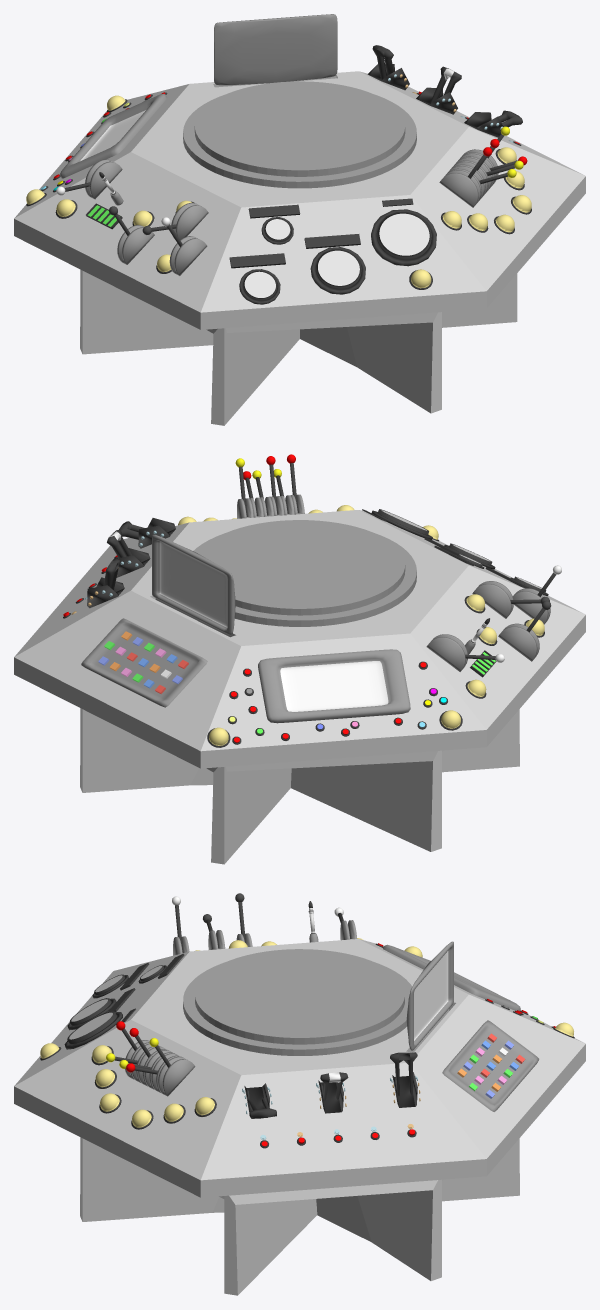
The model's file is Console.fbx.
The picture shows the model from 3 angles, top to bottom: view 1: azimuth 30°, elevation 25°; view 2: azimuth 150°, elevation 25°; view 3: azimuth 270°, elevation 25°; orthographic projection.
Parts seen in each view (by area): view 1: Console Up, Circle.005, Desktop, Radioactivity, Screen, Clock, Temperature, Lever Group Base 6, Lever Group Base 6.004, Lever Group Base 6.001, Lever Group Base 6.003, Lever Group Base 6.002 (+6 smaller); view 2: Console Up, Circle.005, Screen, Desktop, Plane Keyboard, Lever Group Base 6.001, Lever Group Base 6.003, Lever Group Base 6.002, Lever Group Base 6.004, Lever Base.002, Lever Base, Radioactivity (+1 smaller); view 3: Console Up, Circle.005, Plane Keyboard, Desktop, Screen, Radioactivity, Lever Group Base 1, Clock, Lever Base, Lever Base.001, Lever.
Boxes of the visible parts, left/top/right/bottom form: Console Up: left=14, top=71, right=585, bottom=425; Circle.005: left=183, top=81, right=416, bottom=188; Desktop: left=214, top=14, right=337, bottom=85; Radioactivity: left=371, top=209, right=436, bottom=266; Screen: left=60, top=93, right=167, bottom=178; Clock: left=310, top=247, right=365, bottom=294; Temperature: left=239, top=269, right=280, bottom=304; Lever Group Base 6: left=439, top=170, right=480, bottom=207; Lever Group Base 6.004: left=169, top=236, right=207, bottom=275; Lever Group Base 6.001: left=85, top=159, right=122, bottom=199; Lever Group Base 6.003: left=117, top=225, right=154, bottom=264; Lever Group Base 6.002: left=171, top=202, right=208, bottom=239; Console Up: left=14, top=510, right=585, bottom=864; Circle.005: left=193, top=520, right=416, bottom=626; Screen: left=258, top=649, right=410, bottom=723; Desktop: left=152, top=534, right=235, bottom=635; Plane Keyboard: left=81, top=618, right=207, bottom=707; Lever Group Base 6.001: left=426, top=634, right=467, bottom=671; Lever Group Base 6.003: left=498, top=623, right=539, bottom=661; Lever Group Base 6.002: left=472, top=581, right=513, bottom=618; Lever Group Base 6.004: left=512, top=588, right=550, bottom=624; Lever Base.002: left=138, top=518, right=175, bottom=548; Lever Base: left=87, top=577, right=124, bottom=608; Radioactivity: left=371, top=509, right=432, bottom=539; Console Up: left=14, top=939, right=585, bottom=1295; Circle.005: left=183, top=949, right=412, bottom=1055; Plane Keyboard: left=442, top=1020, right=539, bottom=1111; Desktop: left=406, top=941, right=453, bottom=1050; Screen: left=383, top=944, right=520, bottom=1010; Radioactivity: left=64, top=1011, right=122, bottom=1049; Lever Group Base 1: left=158, top=1056, right=195, bottom=1096; Clock: left=67, top=998, right=116, bottom=1030; Lever Base: left=392, top=1072, right=417, bottom=1107; Lever Base.001: left=318, top=1080, right=343, bottom=1113; Lever: left=390, top=1052, right=417, bottom=1095.
Bounding box in the file's own units: 306 × 162 × 321.
